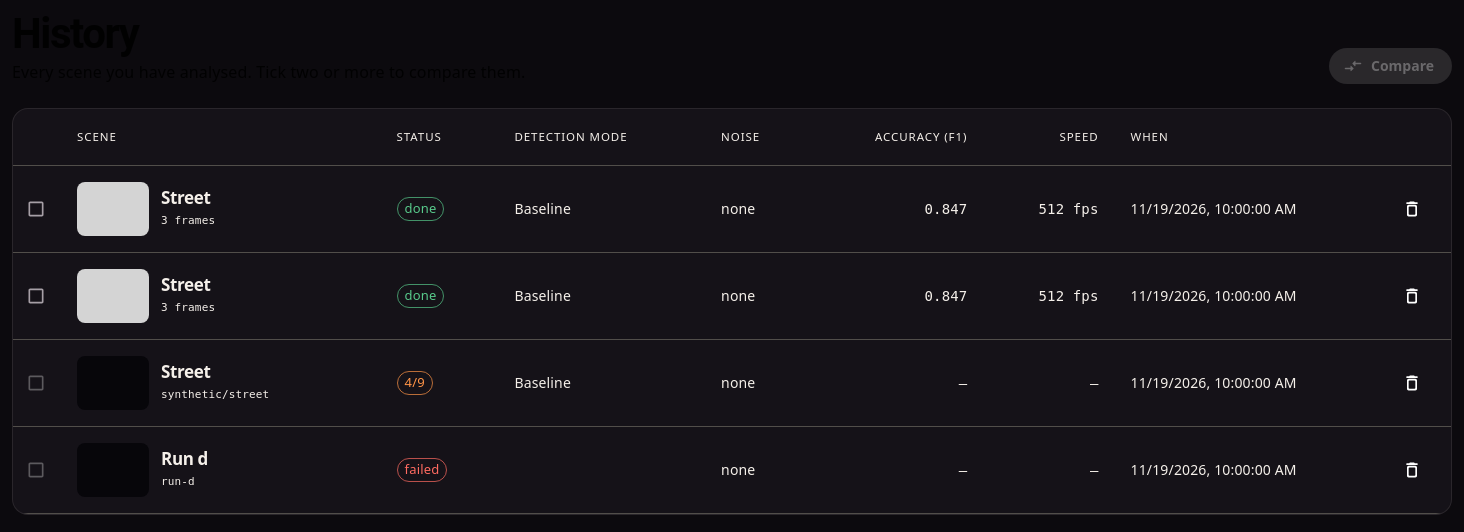
Scenario: History › lists analyses and enables comparing two finished ones
Later steps or results of the test are not shown.
Expected: the number of rows is 5, [13, 109, 1451, 166]; [13, 166, 1451, 253]; [13, 253, 1451, 340]; [13, 340, 1451, 427]; [13, 427, 1451, 514]
Expected: the text "0.847" is shown 2 times, [806, 166, 983, 253]; [806, 253, 983, 340]
Click the checkbox named "select run-a" at point(36, 209), box [26, 199, 46, 219]
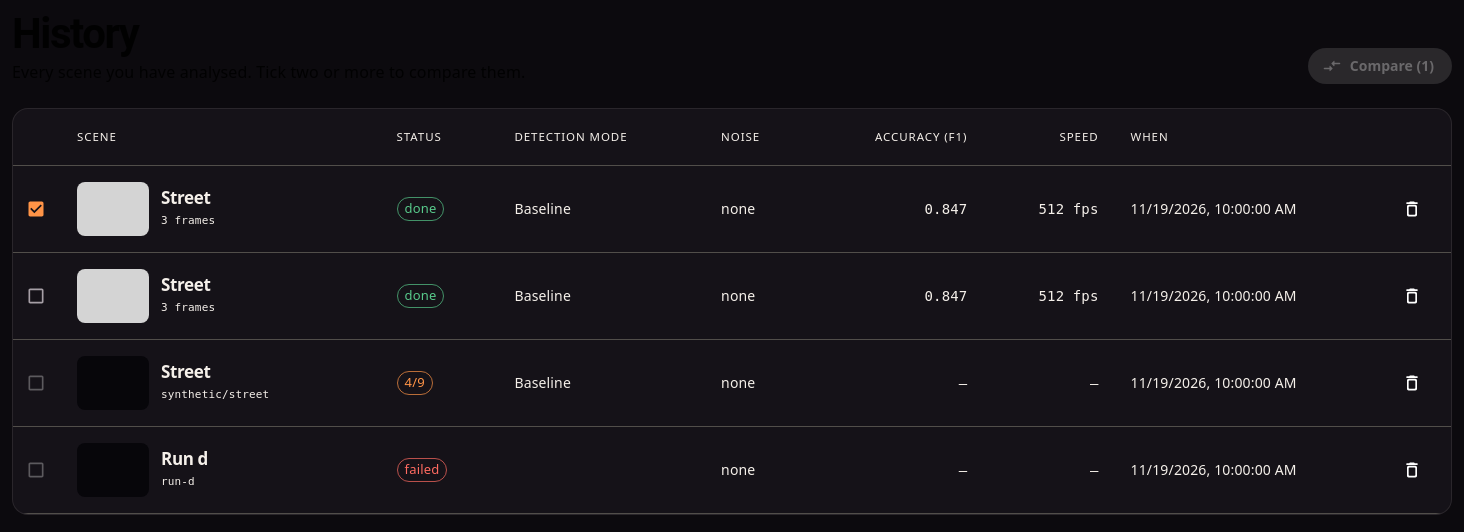
Click the checkbox named "select run-b" at point(36, 296), box [26, 286, 46, 306]
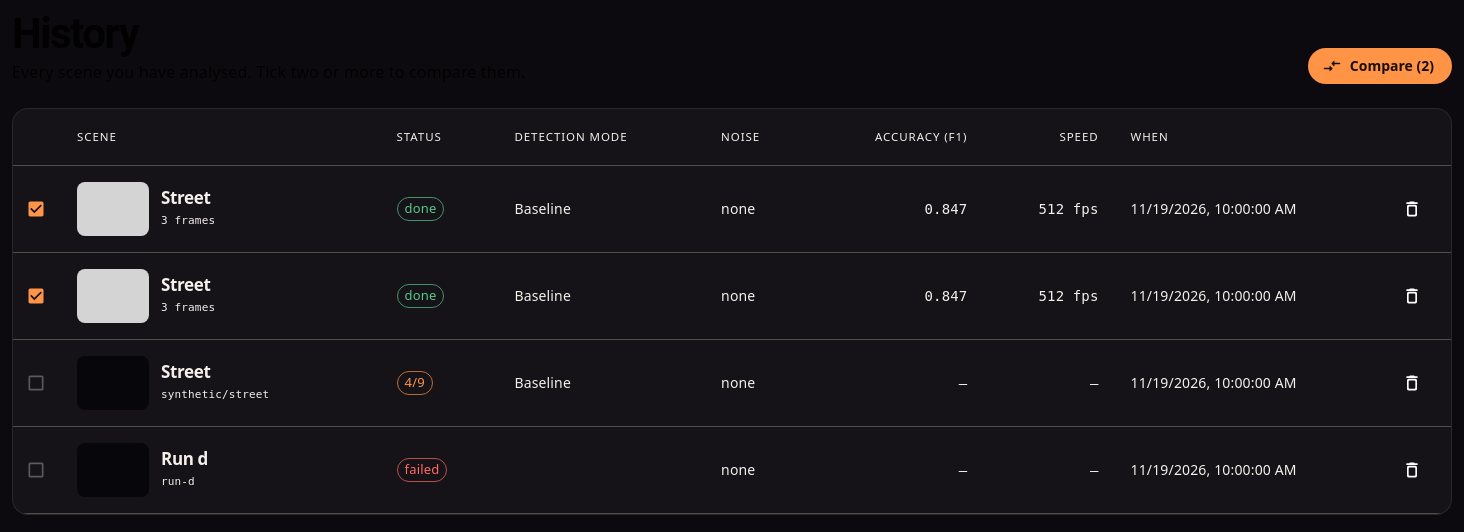
Expected: the button "Compare (2)" is enabled, [1308, 48, 1452, 84]
